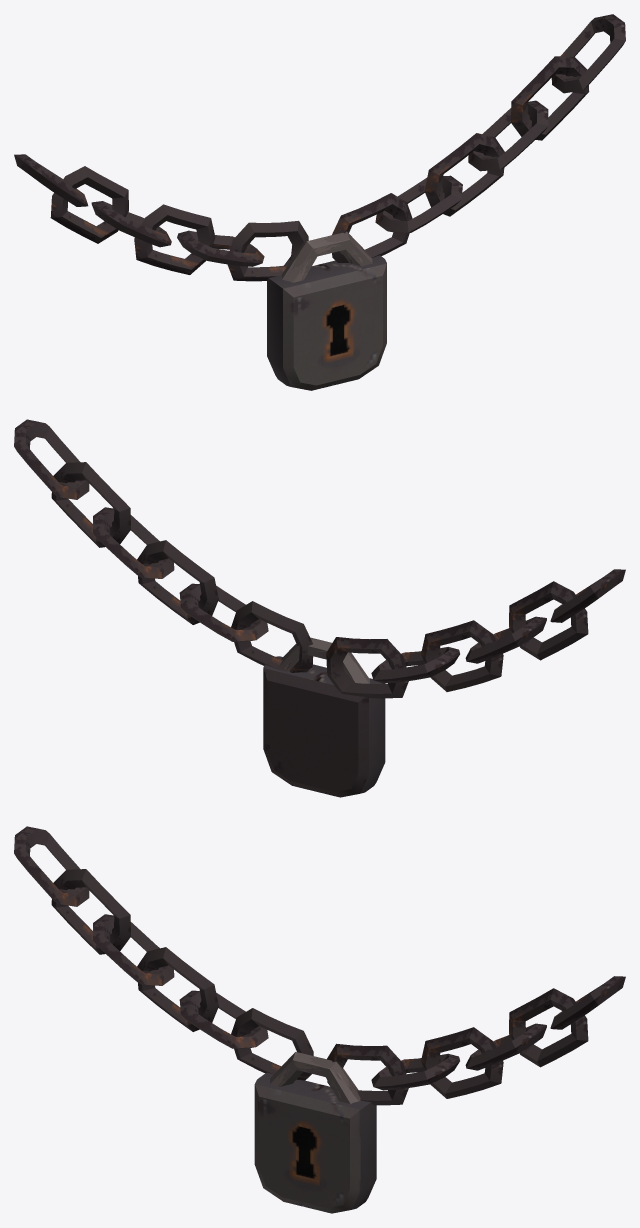
File: Lock.fbx
3 views of the same model, one above another, from view 1: azimuth 30°, elevation 25°; view 2: azimuth 150°, elevation 25°; view 3: azimuth 330°, elevation 25° (orthographic).
Visible parts, largest first — view 1: Torus, Torus.005, Torus.004; view 2: Torus, Torus.005, Torus.004; view 3: Torus, Torus.004, Torus.005.
Part boxes in pixels (box(x1,y1,x2,y2)): Torus: box(267, 231, 386, 390); Torus.005: box(332, 14, 625, 262); Torus.004: box(14, 154, 308, 281); Torus: box(263, 637, 385, 797); Torus.005: box(14, 419, 313, 672); Torus.004: box(326, 569, 625, 698); Torus: box(254, 1052, 376, 1213); Torus.004: box(14, 826, 313, 1080); Torus.005: box(327, 976, 625, 1105).
Size of the model in its own units: 189 by 87.79 by 20.06.
